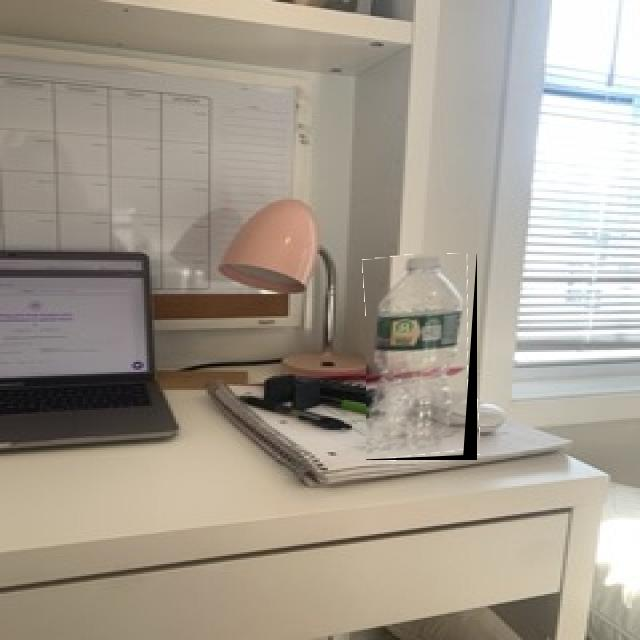water_bottle: (366, 254, 477, 460)
